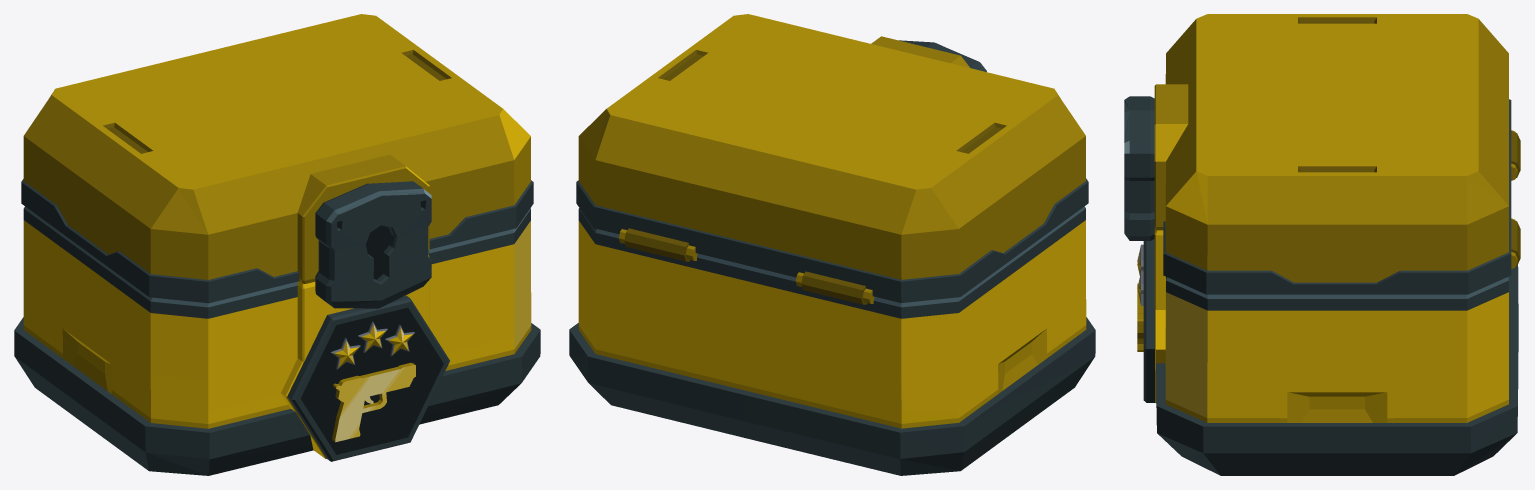
File: box_weaponGrade03.fbx
3 views of the same model, side by side, from view 1: azimuth 30°, elevation 25°; view 2: azimuth 150°, elevation 25°; view 3: azimuth 270°, elevation 25° (orthographic). The views are drawn at different scales.
Visible parts, largest first — view 1: Object003, box_weaponGrade03, Object004; view 2: Object003, box_weaponGrade03; view 3: Object003, box_weaponGrade03, Object004.
Boxes of the visible parts, bbox=[...] form: Object003: bbox=[21, 14, 533, 303]; box_weaponGrade03: bbox=[14, 206, 540, 475]; Object004: bbox=[315, 181, 431, 308]; Object003: bbox=[576, 14, 1088, 304]; box_weaponGrade03: bbox=[569, 206, 1095, 475]; Object003: bbox=[1154, 14, 1520, 294]; box_weaponGrade03: bbox=[1137, 228, 1518, 475]; Object004: bbox=[1124, 96, 1154, 240].
Size of the model in its own units: 187 by 128 by 158.
